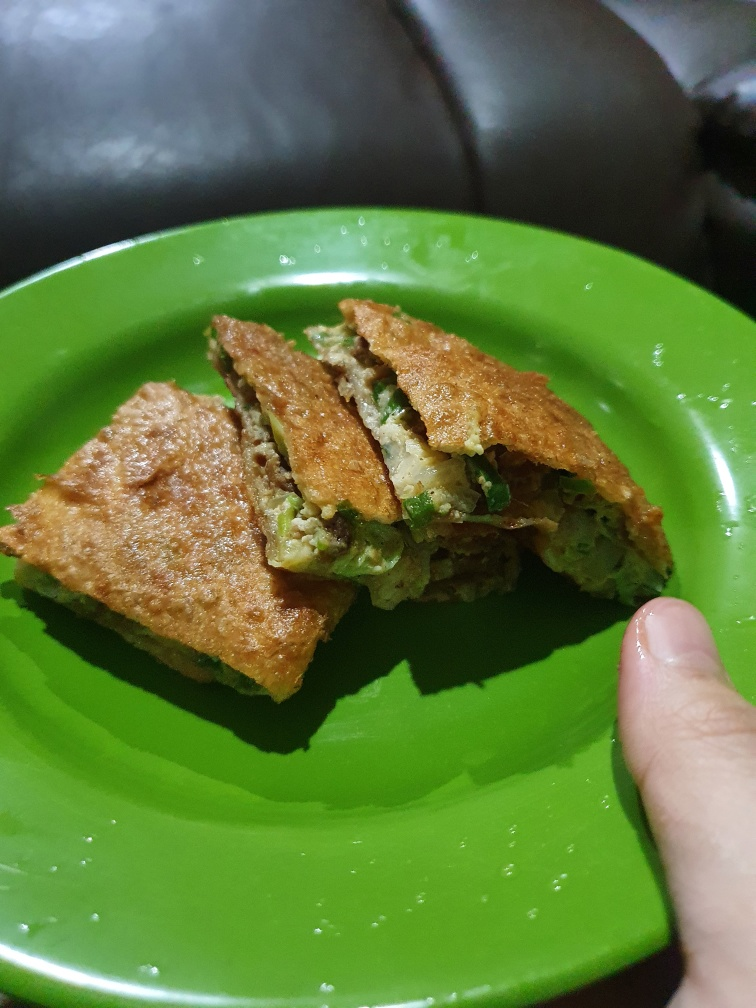martabak telor: (319, 269, 689, 606), (27, 367, 372, 704), (198, 274, 521, 610)
